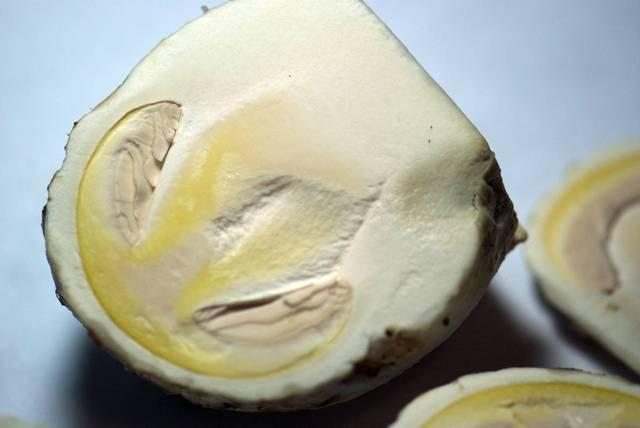Edible Mushroom: (40, 0, 529, 413), (523, 142, 638, 375), (386, 365, 638, 427)
